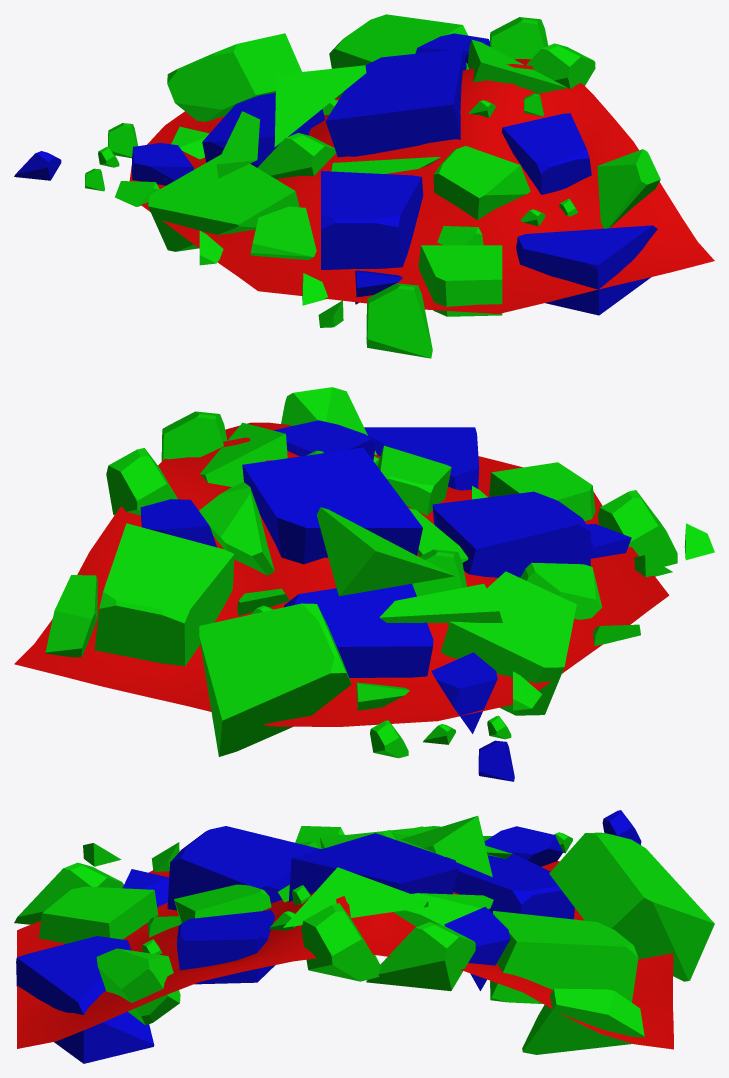
Rendered from SM_Debris_Wall01.FBX.
The picture shows the model from 3 angles, top to bottom: view 1: azimuth 30°, elevation 25°; view 2: azimuth 150°, elevation 25°; view 3: azimuth 270°, elevation 25°; orthographic projection. The views are drawn at different scales.
Visible parts, largest first — view 1: Base_Debris_Wall; view 2: Base_Debris_Wall; view 3: Base_Debris_Wall.
Part boxes in pixels (x1,y1,x2,y2): Base_Debris_Wall: [14, 14, 714, 358]; Base_Debris_Wall: [14, 387, 714, 781]; Base_Debris_Wall: [14, 810, 714, 1063].
Bounding box in the file's own units: 498 × 601 × 162.
